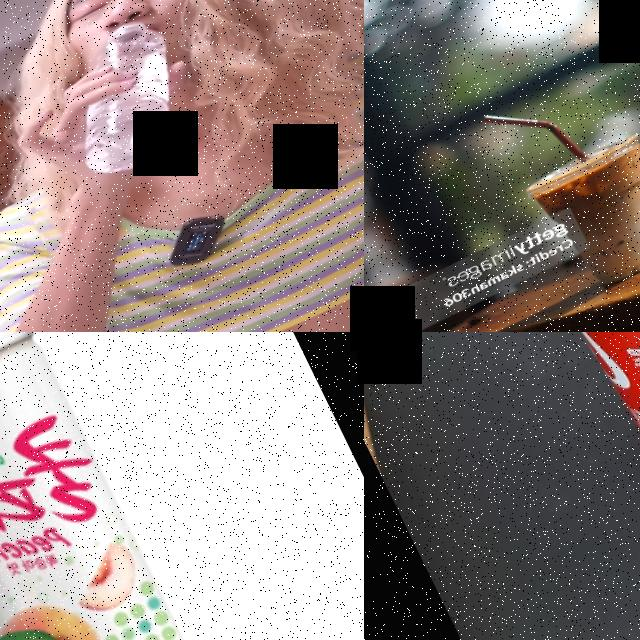bottle: (36, 11, 211, 188)
can: (0, 332, 252, 640), (501, 332, 640, 533)
cup: (522, 123, 640, 303)
